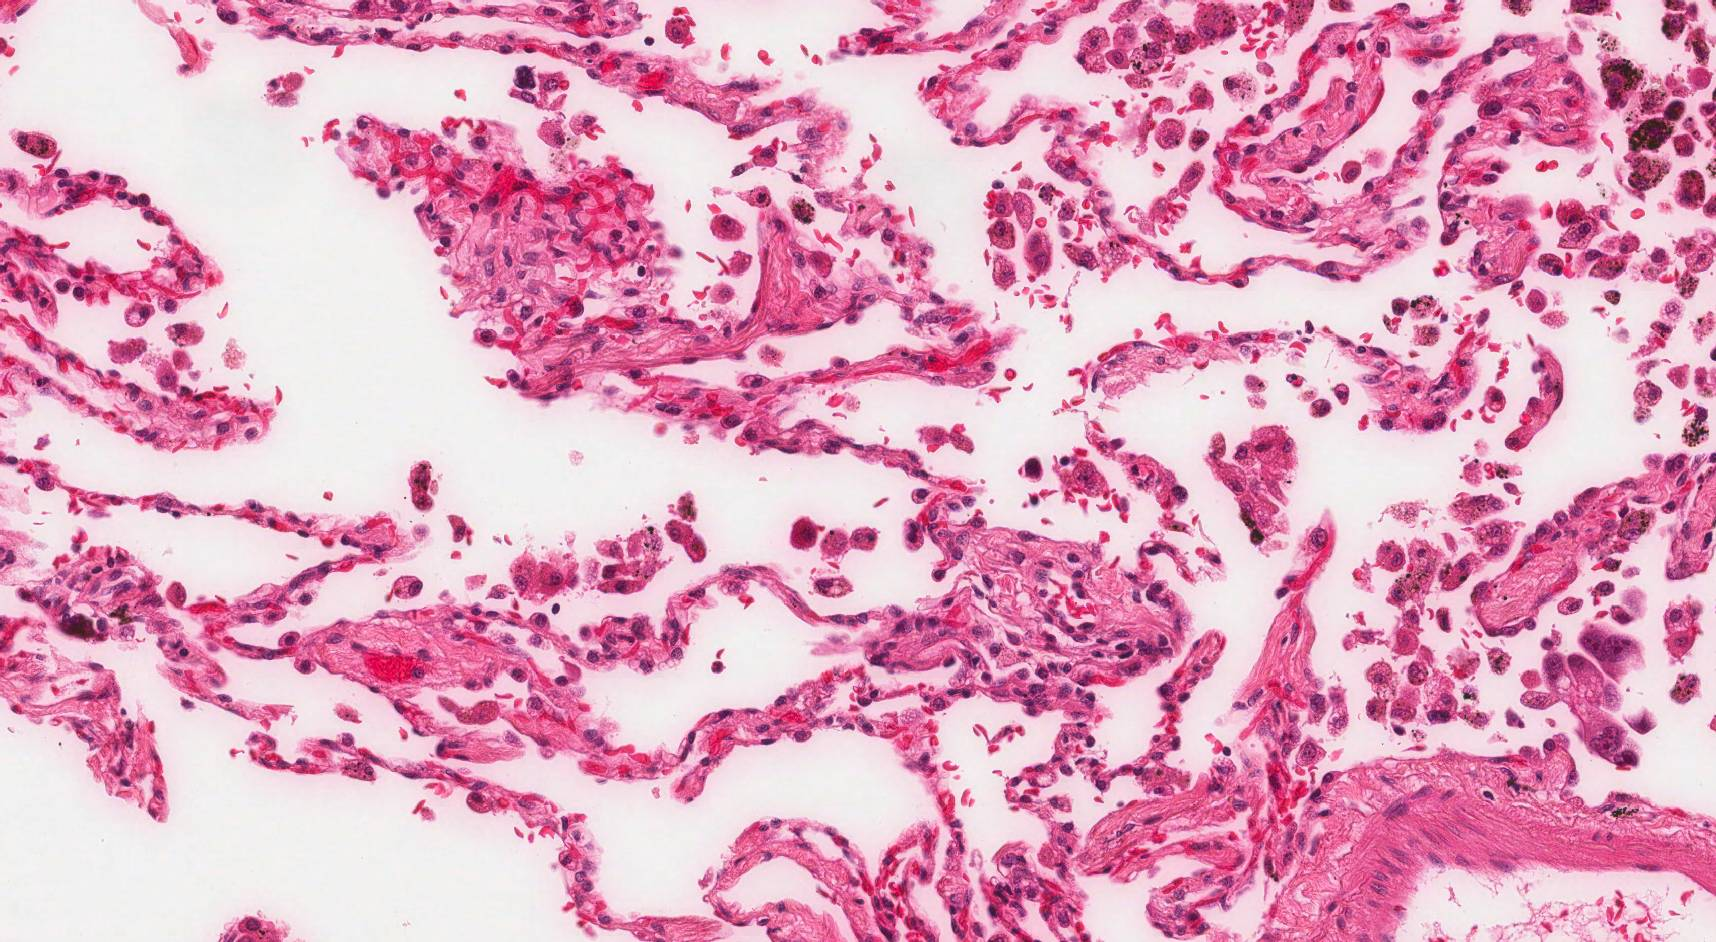stas: (1520, 623, 1656, 771)
